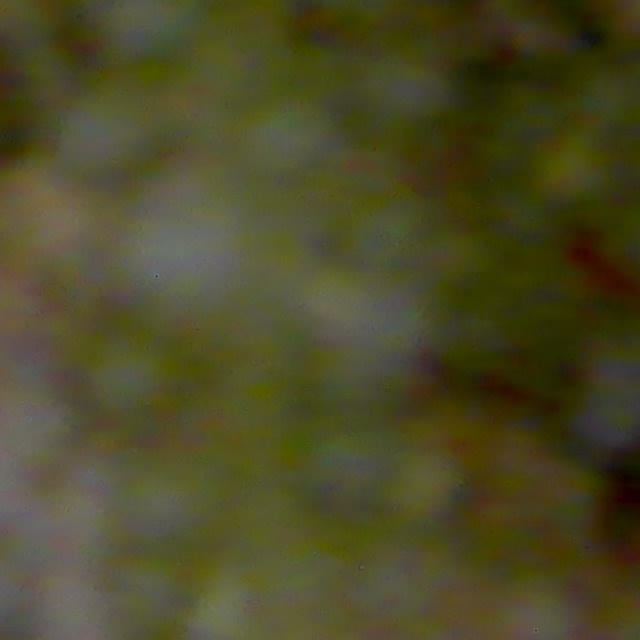SeaGrape: (84, 333, 181, 422), (103, 548, 188, 632)
